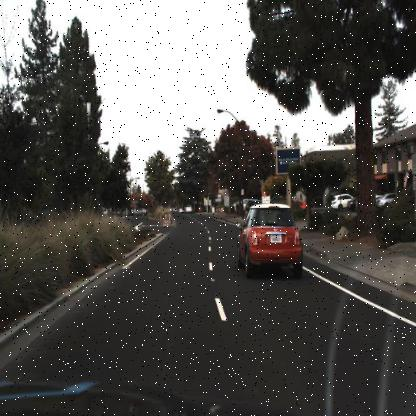car: (238, 203, 302, 278), (330, 193, 353, 209), (378, 193, 396, 207), (132, 206, 148, 218), (185, 204, 193, 214)
